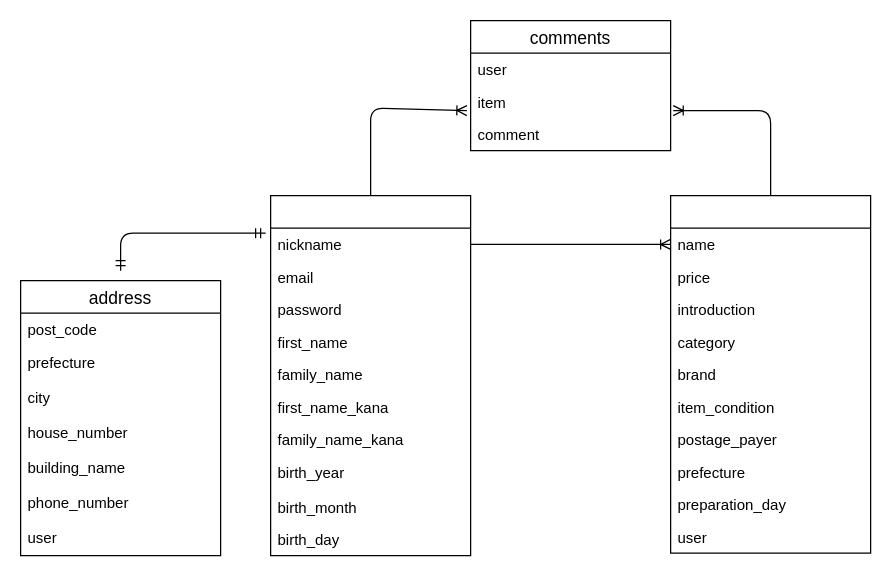
Some shapes in this 891 by 576 pixel diagram are drawn without their labels. Here are the shapes that lost their labels. From the top down, the box of each, then its label:
(269, 194, 471, 556): users
(669, 194, 871, 553): items
